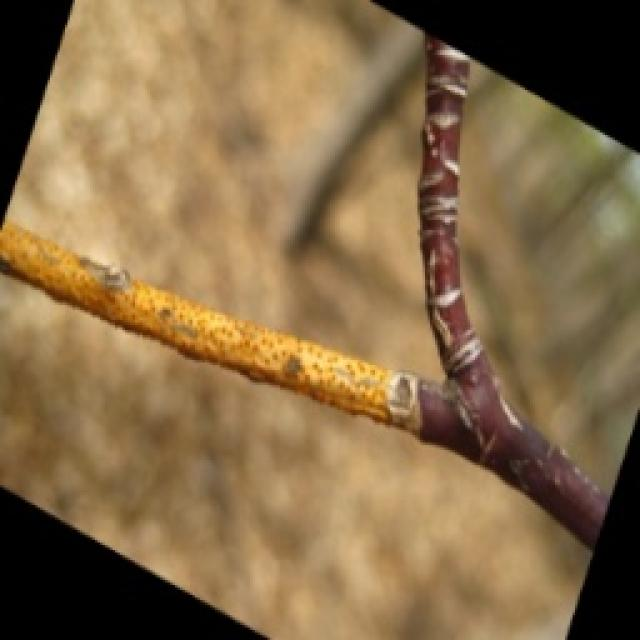Golden_canker: (0, 215, 422, 432)
